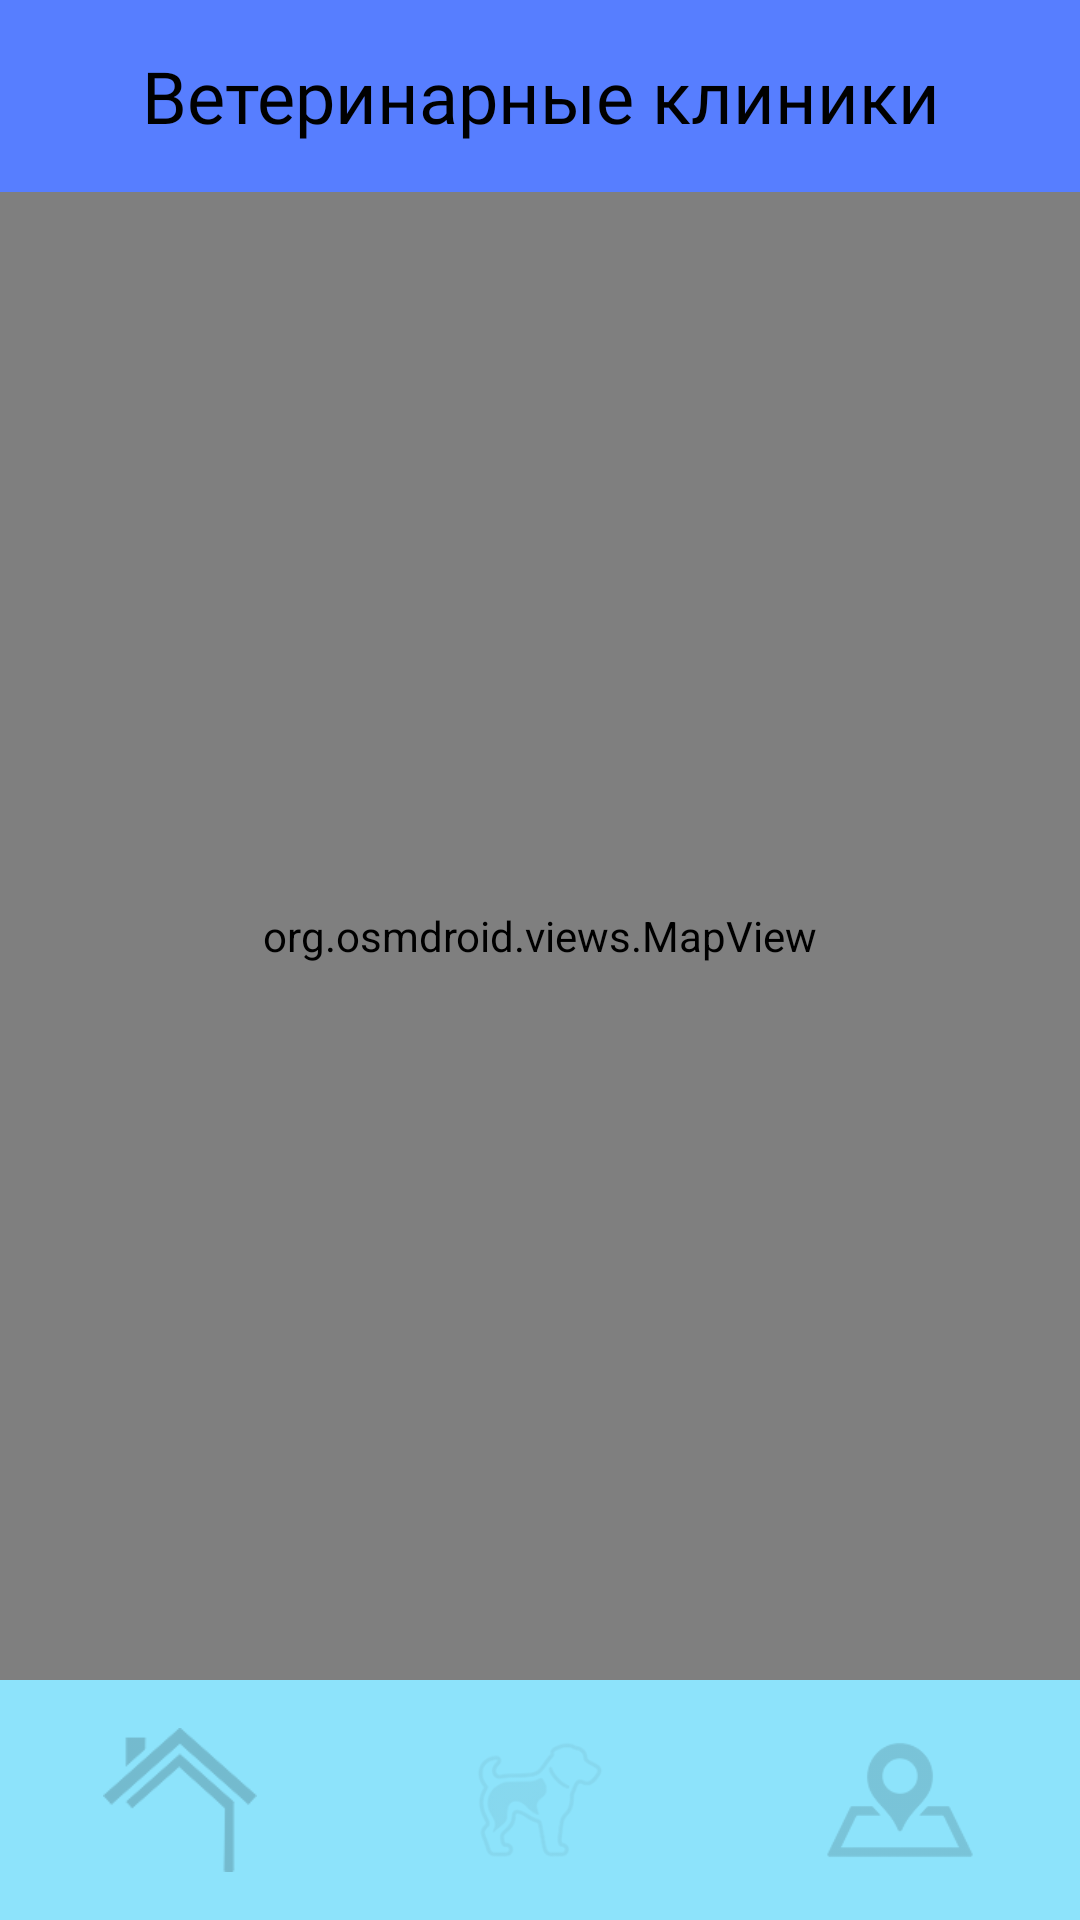

Screen size 1080px x 1920px. Icon name, then its box in pixels as (x1, y1, x2, y2):
home: (103, 1728, 256, 1872)
map: (828, 1744, 972, 1856)
